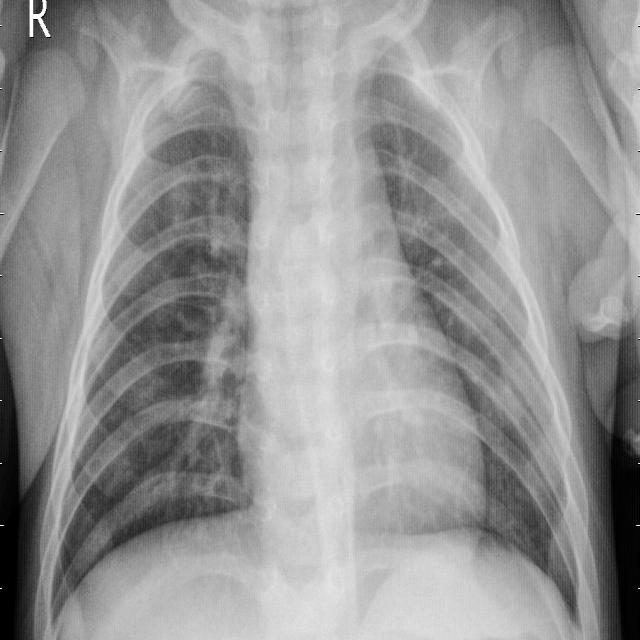low-pneumonia: (153, 272, 249, 502), (394, 155, 496, 334), (156, 19, 246, 134)
